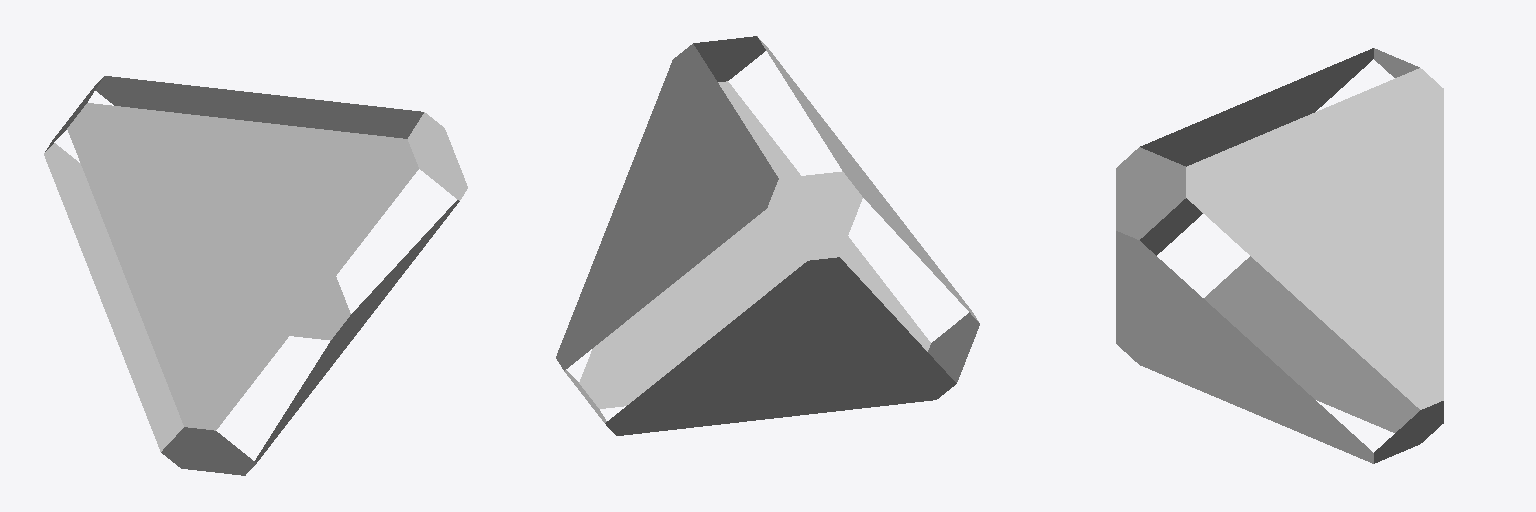
File: tetc.obj
The picture shows the model from 3 angles: view 1: azimuth 30°, elevation 25°; view 2: azimuth 150°, elevation 25°; view 3: azimuth 270°, elevation 25°; orthographic projection.
Parts seen in each view (by area): view 1: tetc, tetc.001; view 2: tetc, tetc.001; view 3: tetc, tetc.001.
Part boxes in pixels (bbox=[...]): tetc: bbox=[44, 76, 467, 475]; tetc.001: bbox=[45, 76, 466, 474]; tetc: bbox=[557, 36, 979, 435]; tetc.001: bbox=[556, 36, 978, 435]; tetc: bbox=[1116, 48, 1443, 463]; tetc.001: bbox=[1116, 48, 1443, 463].
Bounding box in the file's own units: 1.4 × 1.4 × 1.4.